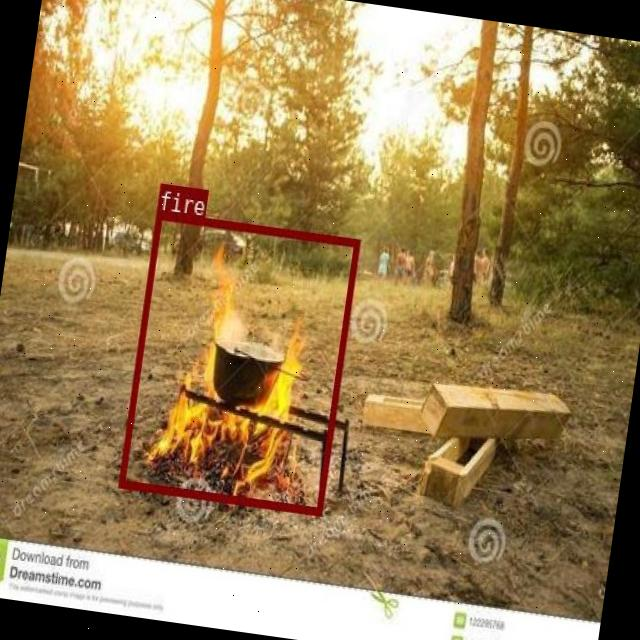fire: (118, 211, 360, 514)
